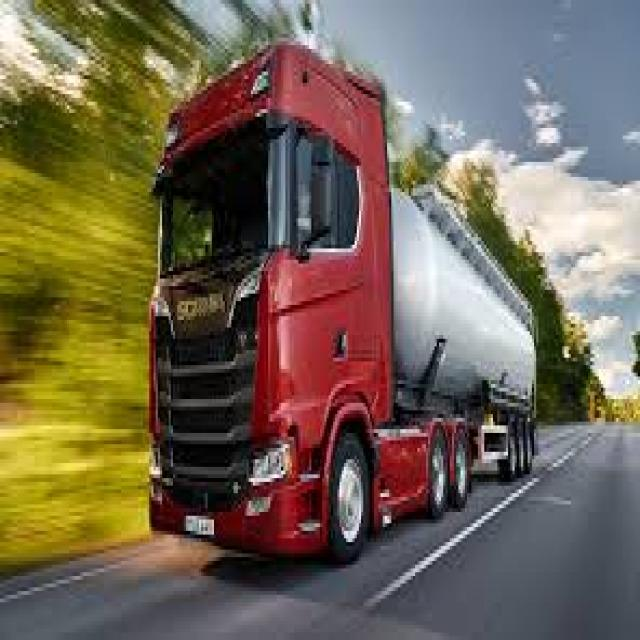truck: (139, 20, 553, 563)
